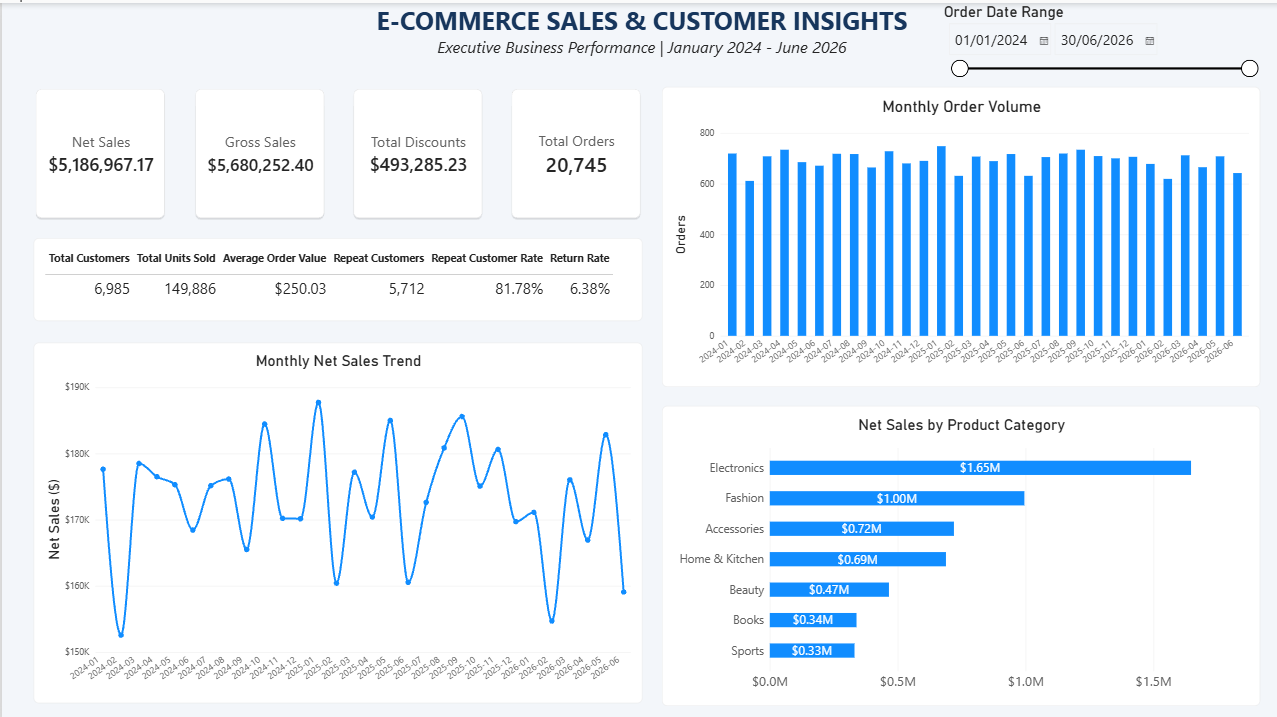

Layout of this report page (visuals, bound fields, positions):
{"tool":"powerbi","page":{"name":"Executive Overview","canvas":[1920,1080],"ordinal":0},"visuals":[{"type":"cardVisual","fields":{"Data":["Measures (2).Net Sales"]},"box":[46.5,126.3,200,200],"z":0},{"type":"cardVisual","fields":{"Data":["Measures (2).Gross Sales"]},"box":[285.9,126.3,200,200],"z":1000},{"type":"cardVisual","fields":{"Data":["Measures (2).Total Discounts"]},"box":[523.1,126.3,200,200],"z":2000},{"type":"tableEx","fields":{"Values":["_Measures.Total Customers","_Measures.Total Units Sold","_Measures.Average Order Value","_Measures.Repeat Customers","_Measures.Repeat Customer Rate","_Measures.Return Rate"]},"box":[46.5,352.4,913.3,124.1],"z":3000},{"type":"lineChart","title":"Monthly Net Sales Trend","fields":{"Category":["Dim_Date.Year-Month"],"Y":["_Measures.Net Sales"]},"box":[46.5,509.8,913.3,540.9],"z":4000},{"type":"clusteredColumnChart","title":"Monthly Order Volume","fields":{"Category":["Dim_Date.Year-Month"],"Y":["_Measures.Total Orders"]},"box":[990.8,126.3,897.7,450],"z":5000},{"type":"clusteredBarChart","title":"Net Sales by Product Category","fields":{"Category":["ecommerce_sales_customer_cleaned.Category"],"Y":["_Measures.Net Sales"]},"box":[990.8,605.1,897.7,450],"z":6000},{"type":"textbox","box":[0,0,1920.6,105.2],"z":7000},{"type":"cardVisual","fields":{"Data":["_Measures.Total Orders"]},"box":[760.3,126.3,200,200],"z":8000},{"type":"slicer","title":"Order Date Range","fields":{"Values":["Dim_Date.Date"]},"box":[1413.1,0,474.5,125.8],"z":9000}]}

Visuals, with their boxes in screenshot pixels (x1, y1, x2, y2), scaled from the page's 1920x1080 canvas onto the 1277x717 screenshot:
cardVisual - Measures (2).Net Sales: locate(31, 84, 164, 217)
cardVisual - Measures (2).Gross Sales: locate(190, 84, 323, 217)
cardVisual - Measures (2).Total Discounts: locate(348, 84, 481, 217)
tableEx - _Measures.Total Customers x _Measures.Total Units Sold: locate(31, 234, 638, 316)
"Monthly Net Sales Trend" lineChart: locate(31, 338, 638, 698)
"Monthly Order Volume" clusteredColumnChart: locate(659, 84, 1256, 383)
"Net Sales by Product Category" clusteredBarChart: locate(659, 402, 1256, 700)
textbox: locate(0, 0, 1276, 70)
cardVisual - _Measures.Total Orders: locate(506, 84, 639, 217)
"Order Date Range" slicer: locate(940, 0, 1255, 84)
